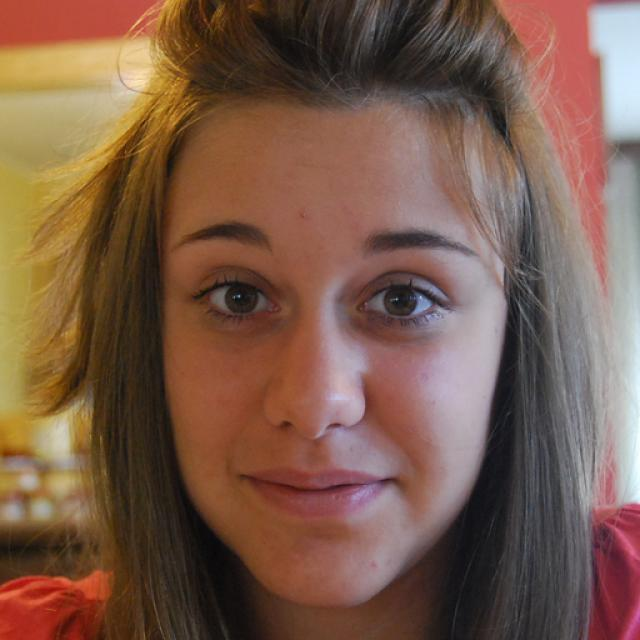content: (162, 80, 506, 610)
